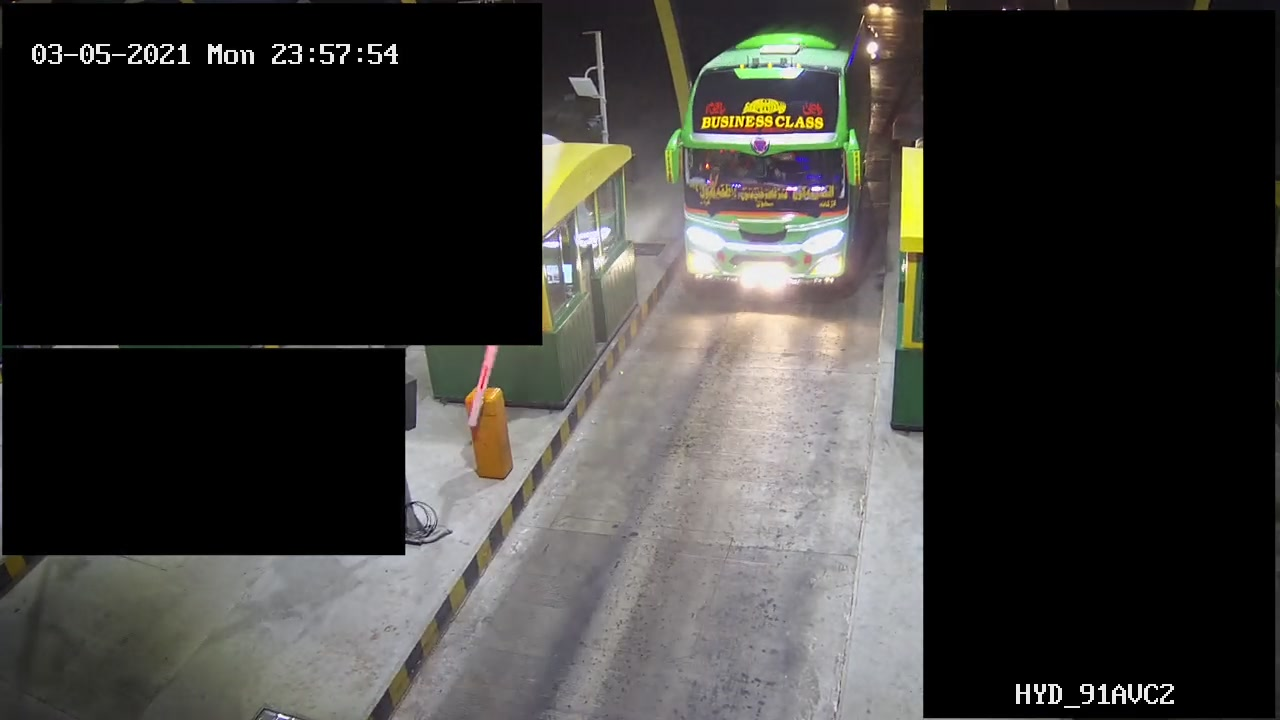F4: (677, 6, 875, 305)
